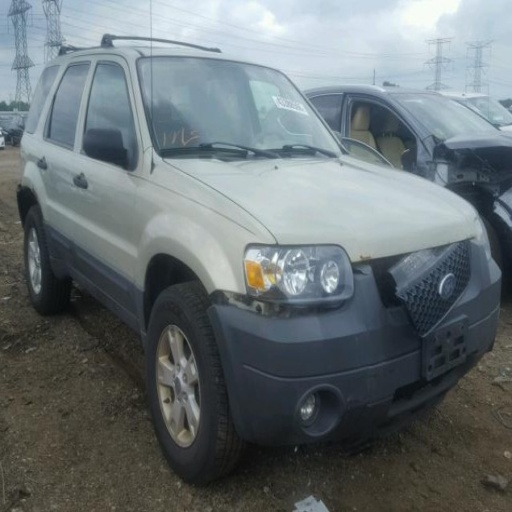rust: (356, 255, 372, 261)
